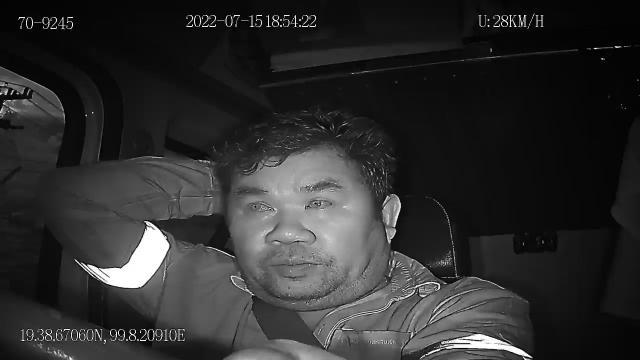SafeDriving: (238, 189, 282, 217), (300, 187, 342, 214)
Seatbelt: (246, 292, 328, 352)
